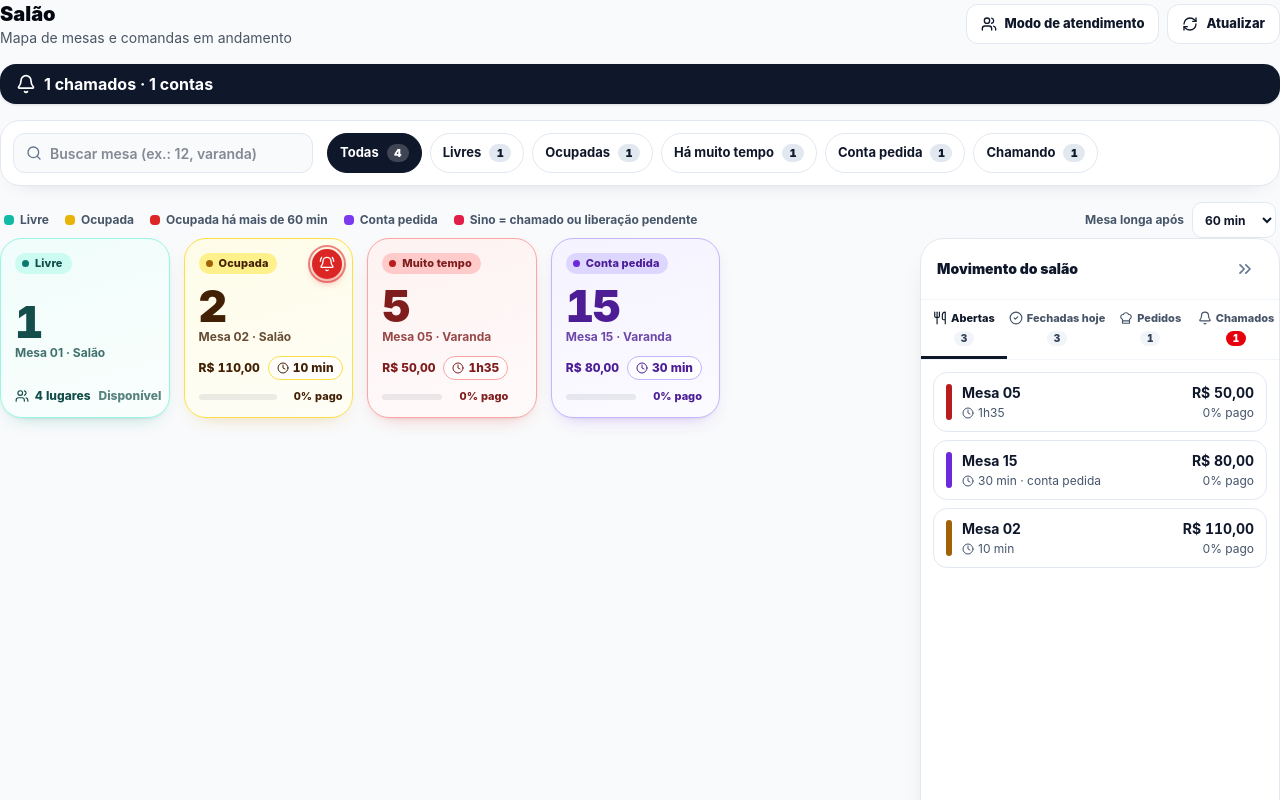
Test: SalonPage — mapa de mesas › antes da migração (banco sem as funções novas) › esconde pausa de QR e PIX da conta, mas o fechamento manual segue igual
Click the button with test id "salon-table-t2": (268, 328) [184, 238, 353, 418]
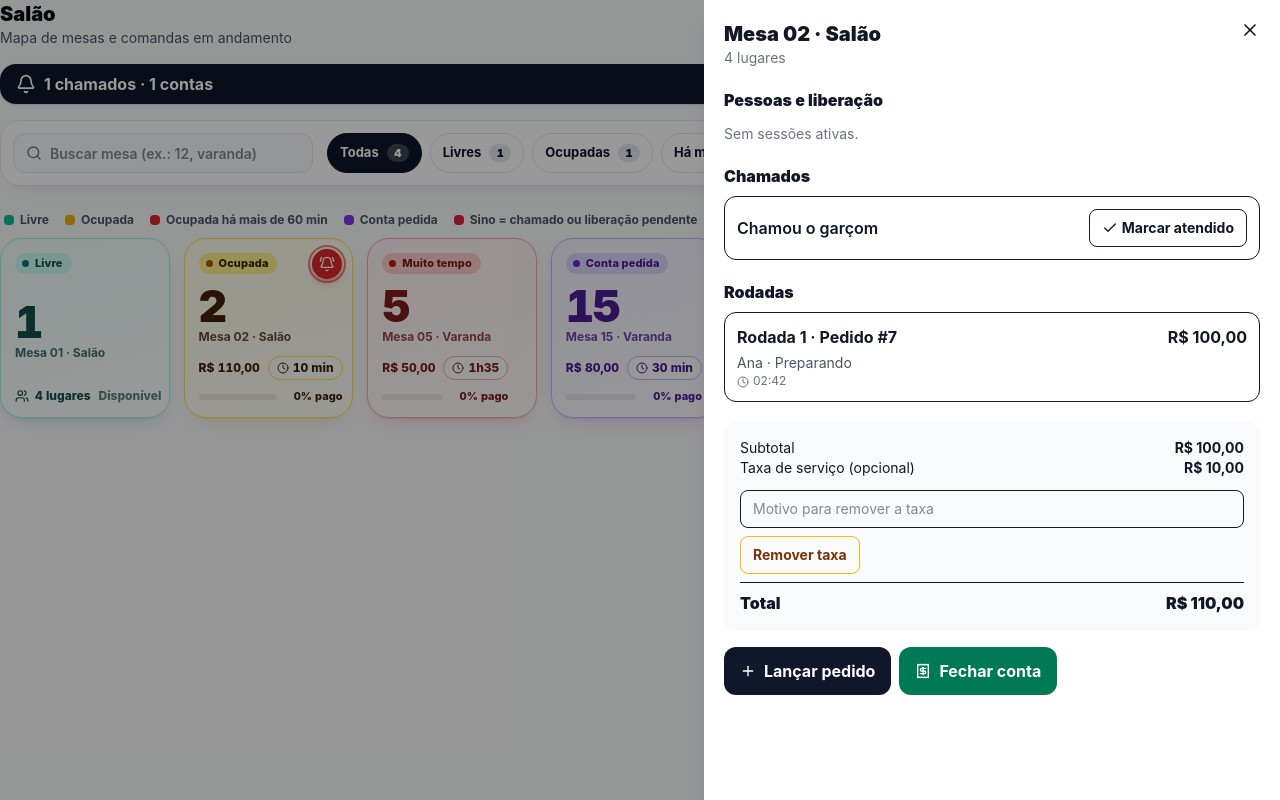
Click the button "Fechar conta": (978, 671) [899, 647, 1057, 695]
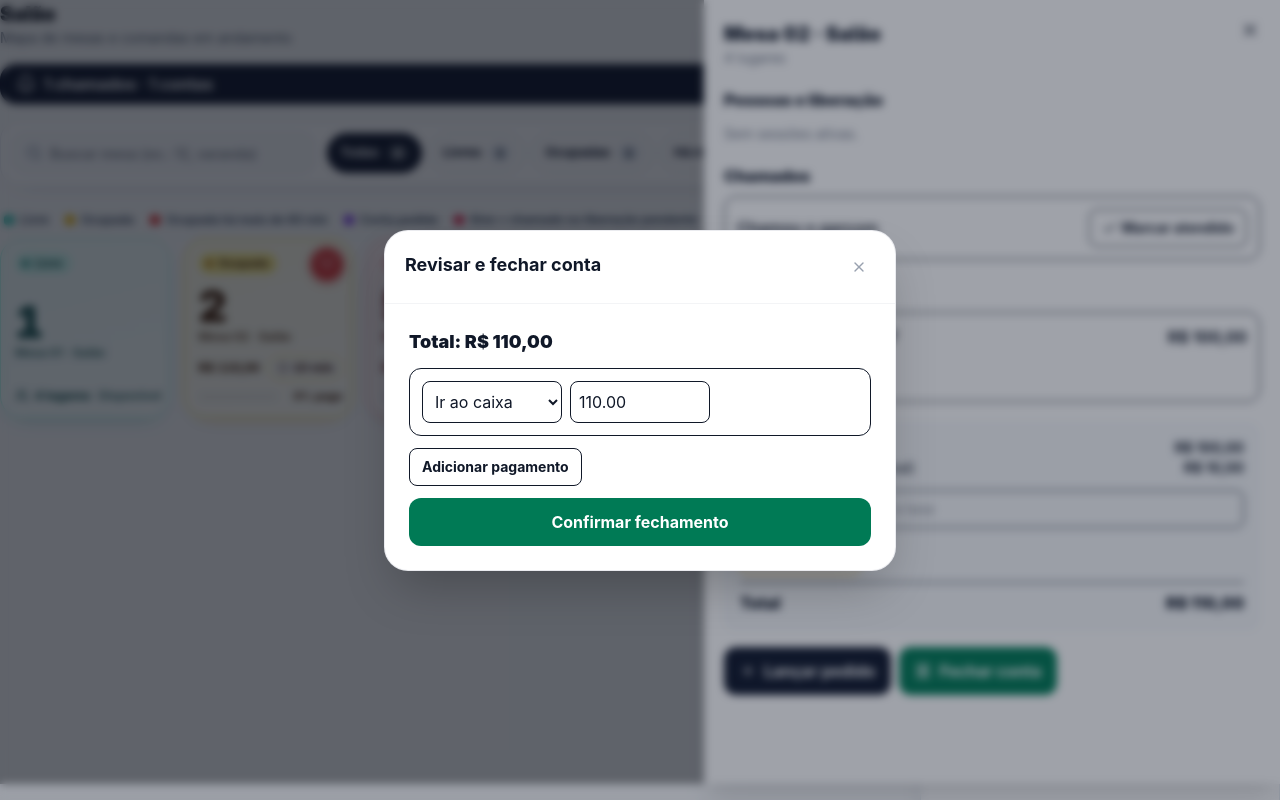
Now the button "Confirmar fechamento" is shown, box [409, 498, 871, 546]
